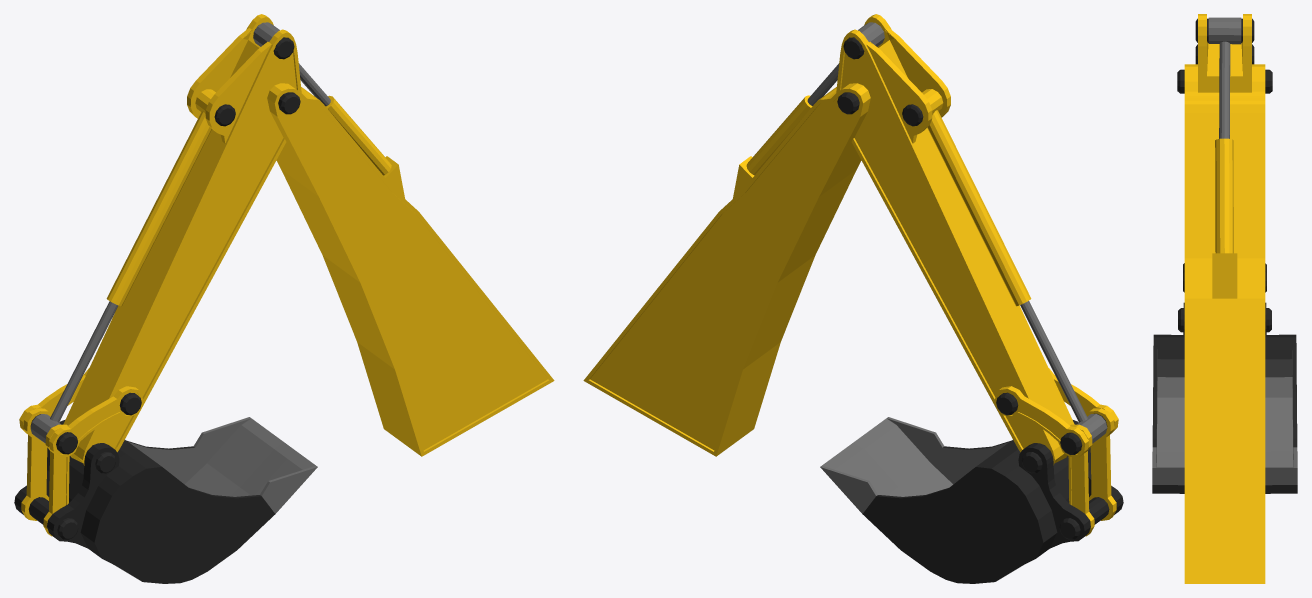
Rendered from Excavator.fbx.
3 views of the same model, side by side, from view 1: azimuth 30°, elevation 25°; view 2: azimuth 150°, elevation 25°; view 3: azimuth 270°, elevation 25° (orthographic). The views are drawn at different scales.
Visible parts, largest first — view 1: UpperArm, LowerArm, Drag, LowerHydraulicCylinder.001, LowerHydraulicCylinder, R_DragHolder, L_UpperDragHolder, L_DragHolder, UpperHydraulicCylinder.001, UpperHydraulicCylinder; view 2: UpperArm, LowerArm, Drag, LowerHydraulicCylinder.001, LowerHydraulicCylinder, L_DragHolder, R_UpperDragHolder, R_DragHolder, UpperHydraulicCylinder.001, UpperHydraulicCylinder; view 3: UpperArm, Drag, LowerArm, UpperHydraulicCylinder.001, UpperHydraulicCylinder.
Part boxes in pixels (box(x1,y1,x2,y2)): UpperArm: box(267, 83, 554, 456); LowerArm: box(63, 14, 301, 473); Drag: box(14, 417, 317, 583); LowerHydraulicCylinder.001: box(106, 89, 215, 306); LowerHydraulicCylinder: box(30, 301, 118, 454); R_DragHolder: box(21, 408, 50, 520); L_UpperDragHolder: box(49, 386, 143, 457); L_DragHolder: box(43, 424, 69, 536); UpperHydraulicCylinder.001: box(326, 95, 391, 175); UpperHydraulicCylinder: box(253, 22, 330, 106); UpperArm: box(583, 83, 870, 456); LowerArm: box(836, 14, 1074, 473); Drag: box(820, 417, 1123, 583); LowerHydraulicCylinder.001: box(922, 89, 1031, 306); LowerHydraulicCylinder: box(1020, 301, 1107, 454); L_DragHolder: box(1087, 408, 1116, 520); R_UpperDragHolder: box(995, 386, 1088, 457); R_DragHolder: box(1068, 424, 1094, 536); UpperHydraulicCylinder.001: box(746, 95, 812, 175); UpperHydraulicCylinder: box(807, 22, 884, 105); UpperArm: box(1177, 64, 1272, 583); Drag: box(1152, 302, 1297, 493); LowerArm: box(1178, 14, 1271, 332); UpperHydraulicCylinder.001: box(1215, 138, 1233, 253); UpperHydraulicCylinder: box(1208, 17, 1241, 138).
Bounding box in the file's own units: 4.58 × 4.4 × 1.08.
